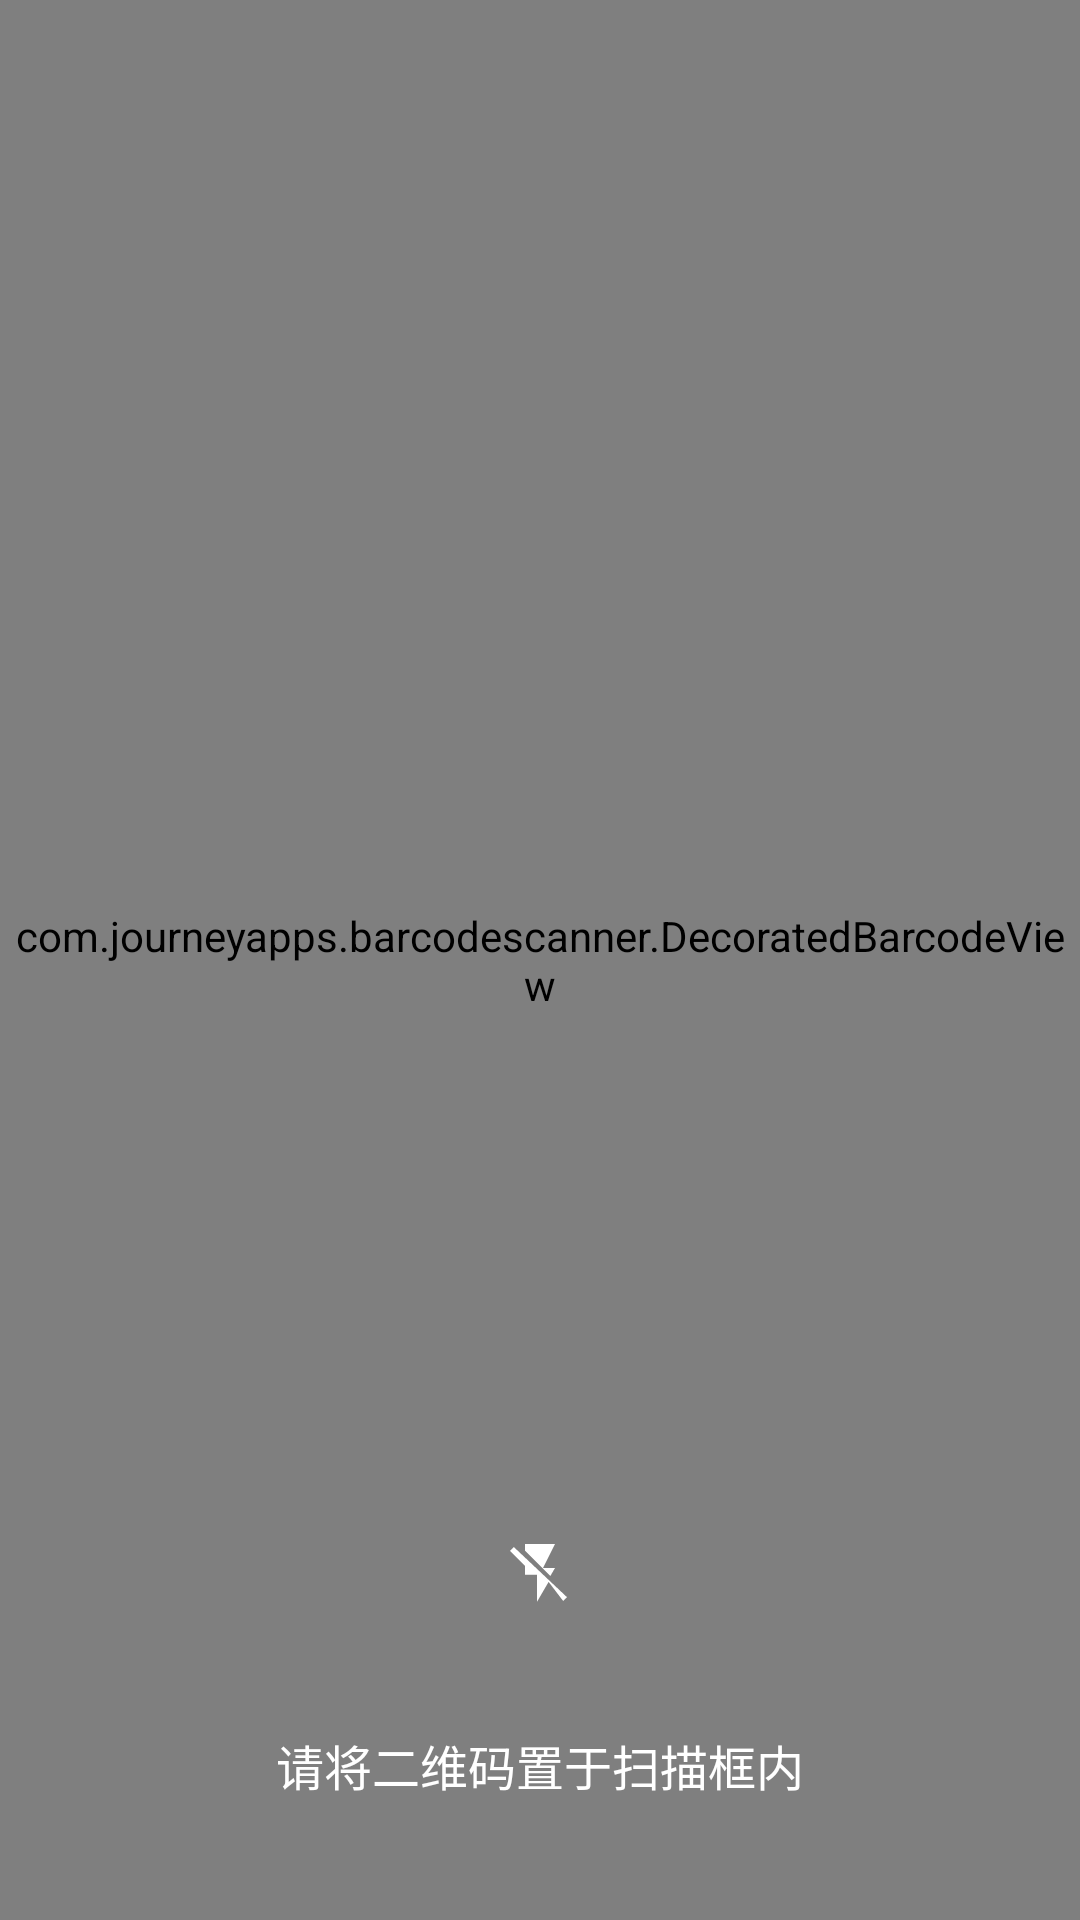

Screen size 1080*1920. Icon name, then its center in pixels as point (x, y):
开启手电筒: point (538, 1572)
